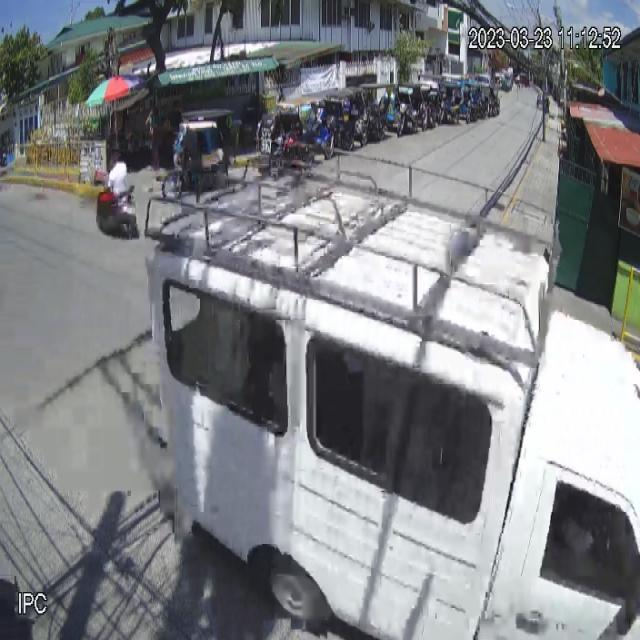Van: (145, 149, 640, 640)
